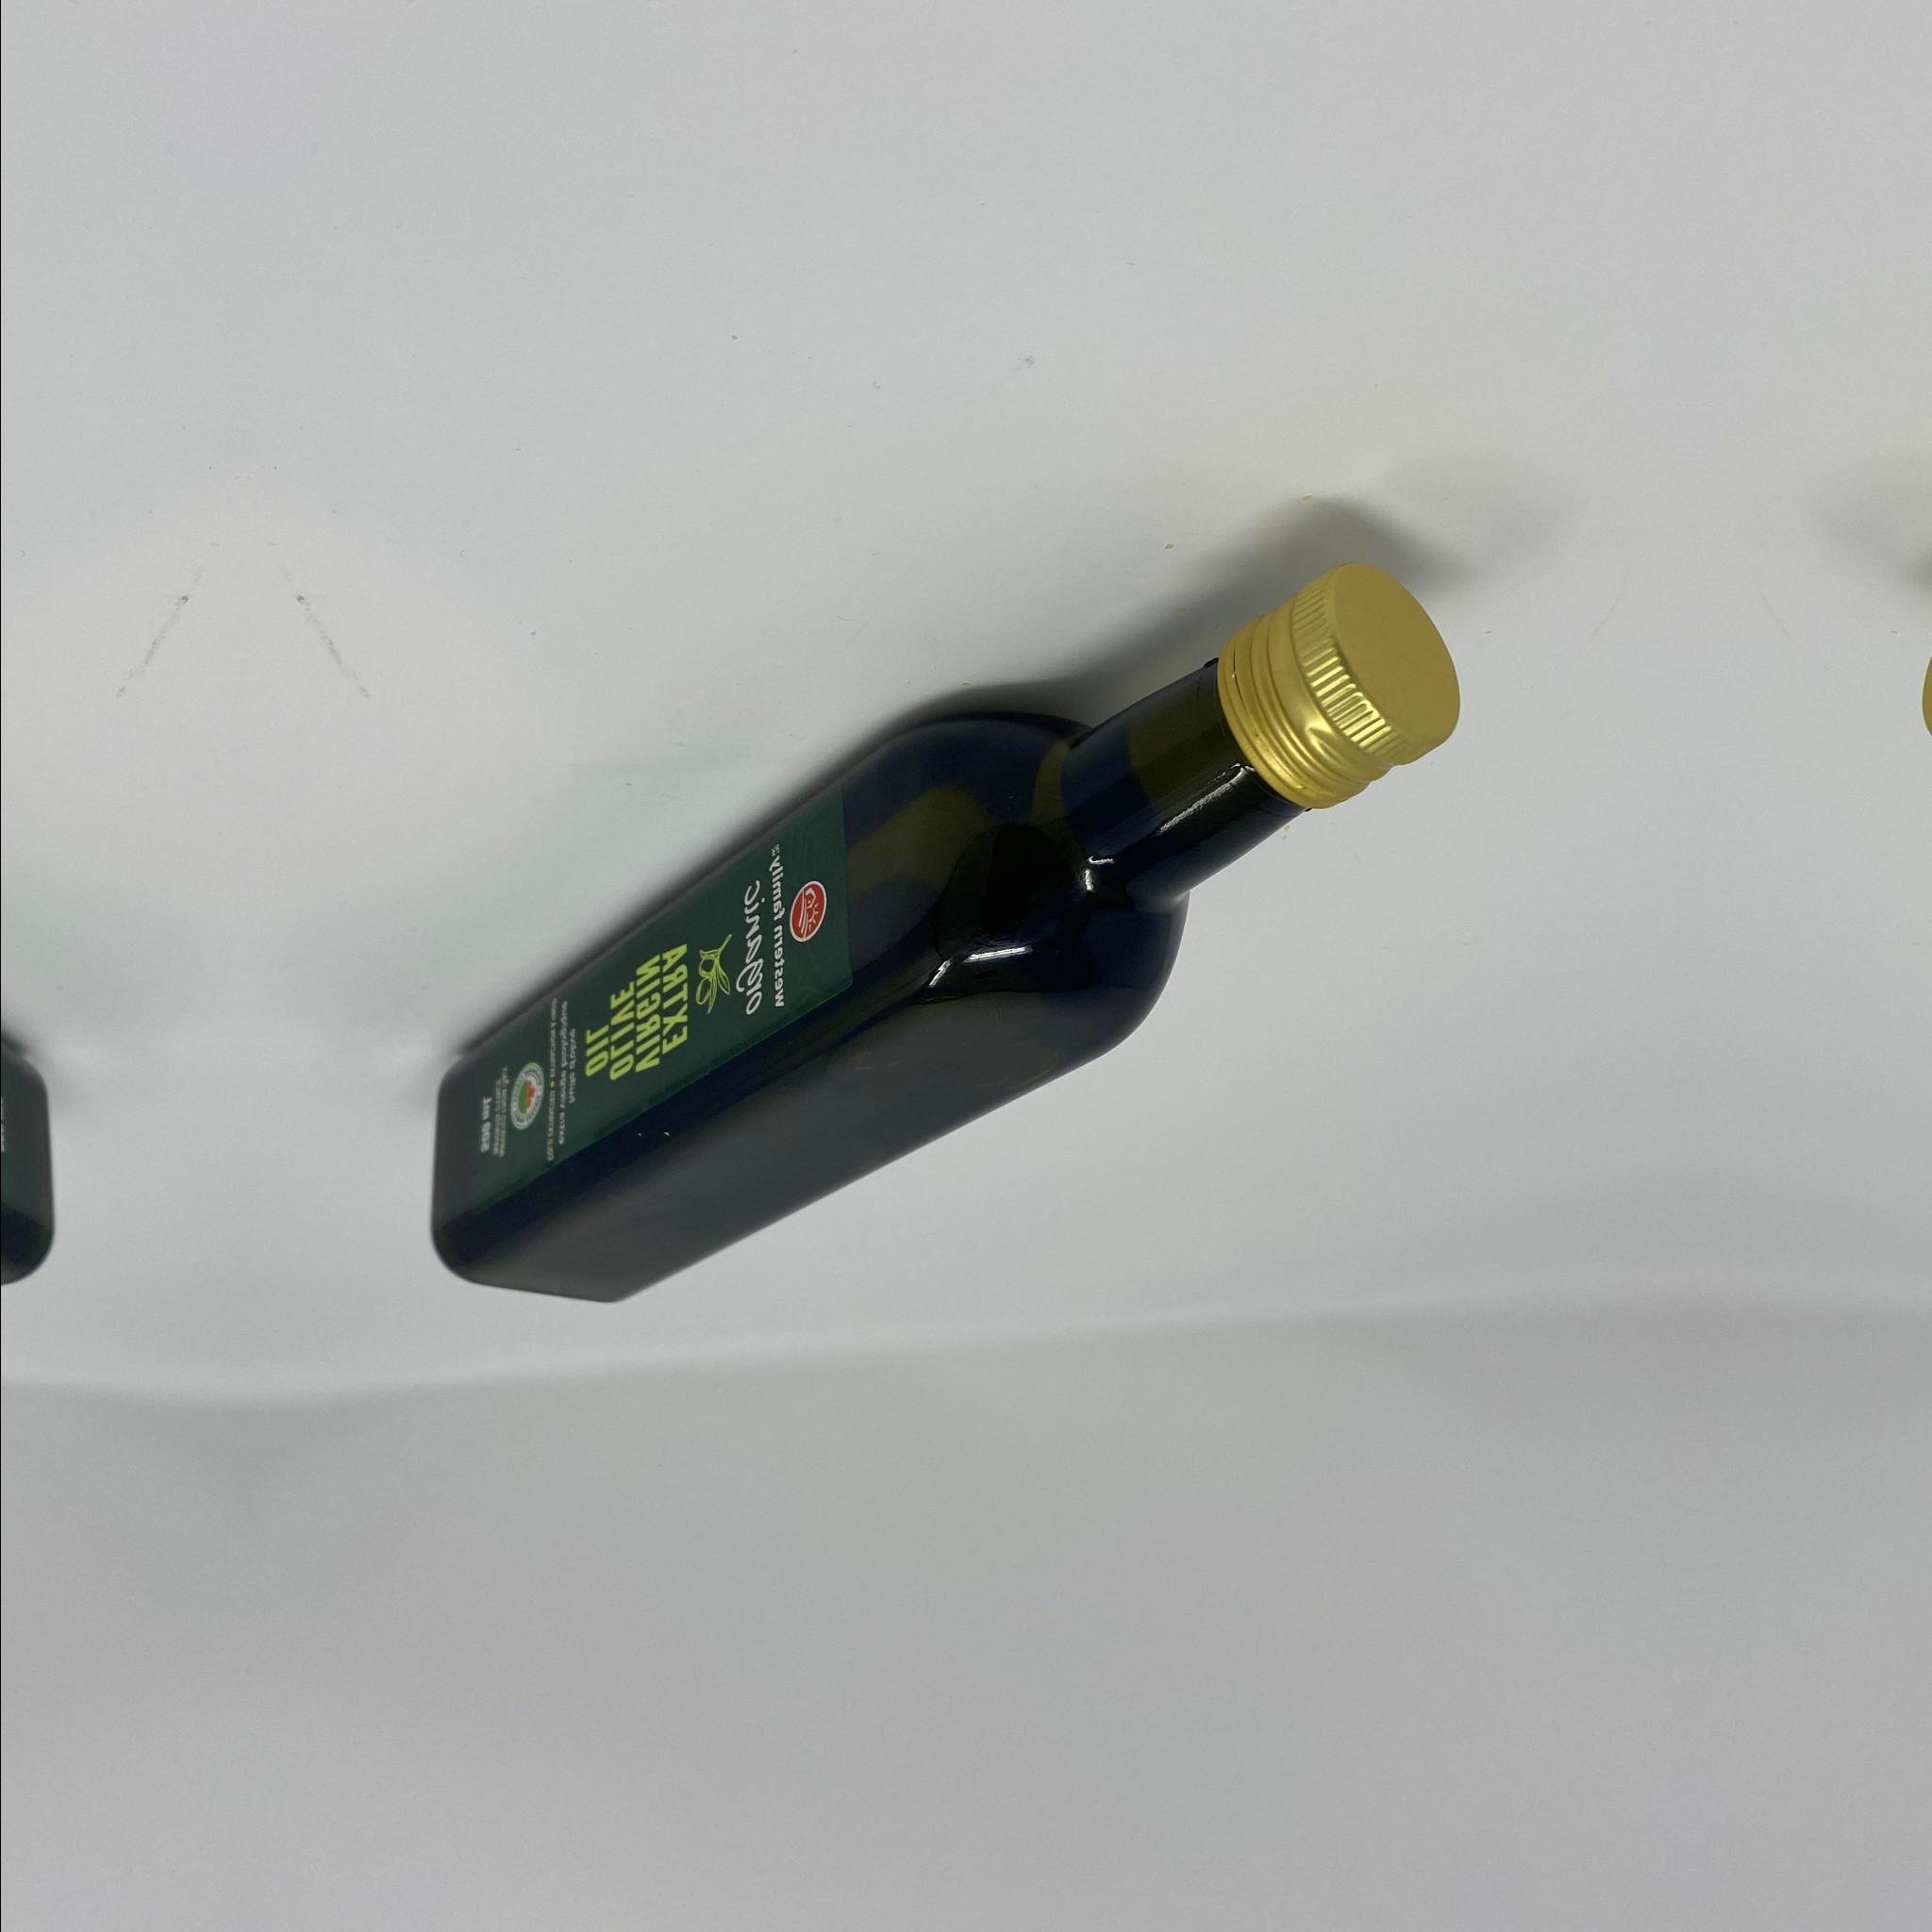glass: (428, 563, 1465, 1304)
oil: (428, 563, 1465, 1304)
sodocalcique: (428, 563, 1465, 1304)
